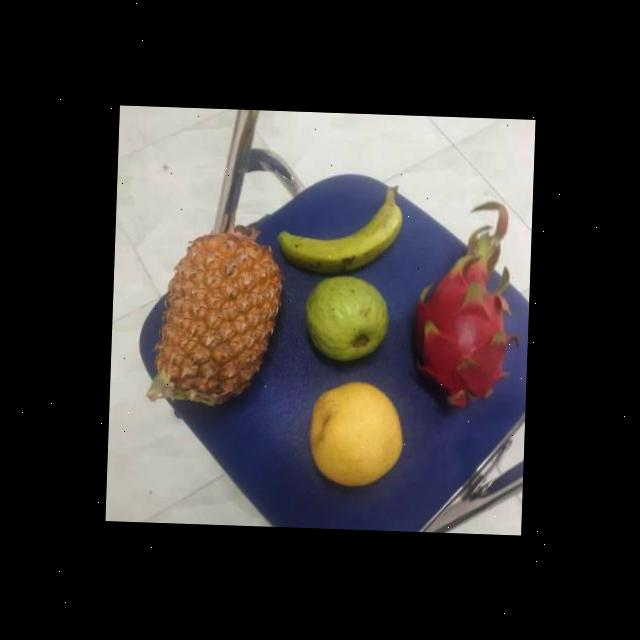banana: (276, 192, 402, 276)
guava: (299, 277, 390, 362)
pear: (300, 376, 404, 486)
pineapple: (151, 237, 282, 408)
pitaya: (403, 255, 519, 416)
